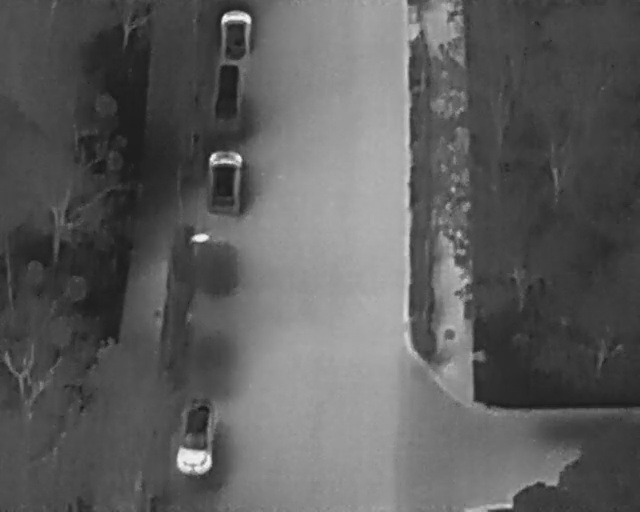Car: (174, 393, 218, 477), (204, 147, 245, 217), (211, 59, 244, 125), (216, 7, 252, 63)
